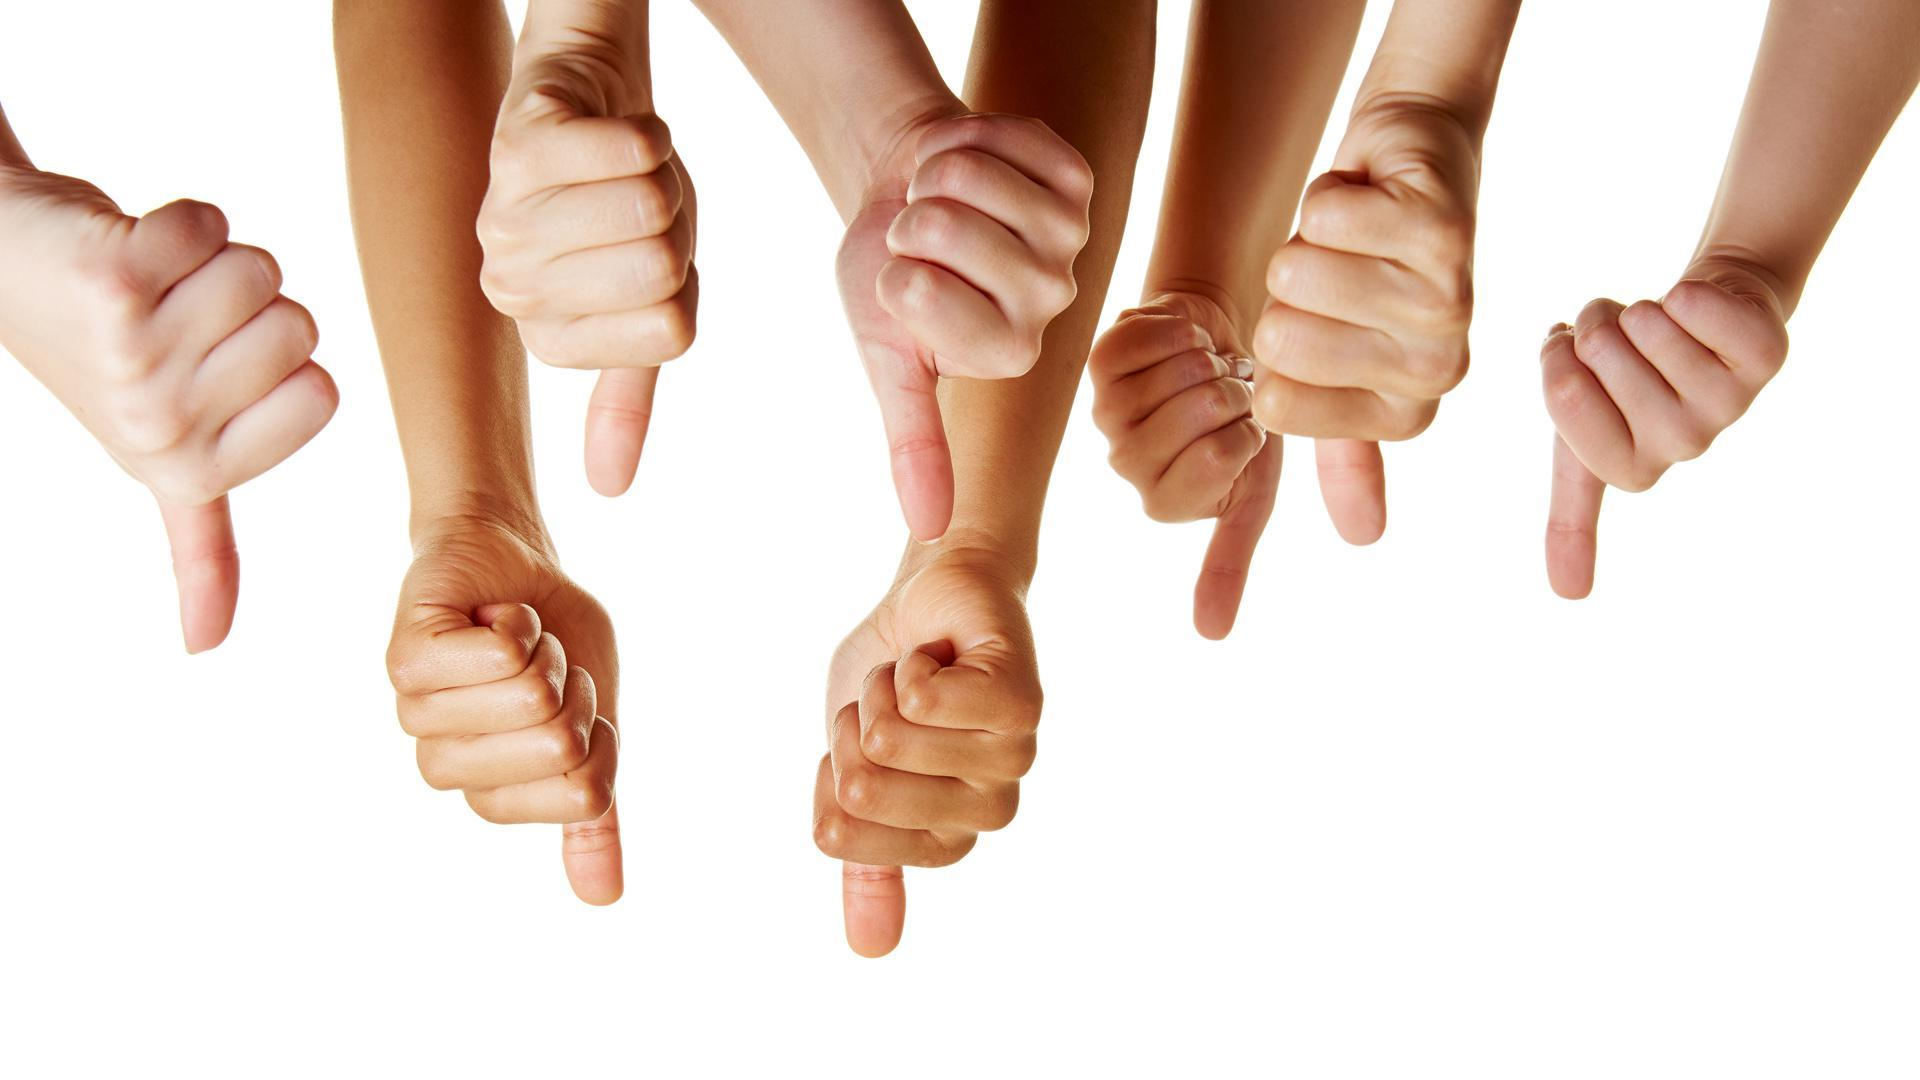thumbsdown: (92, 196, 342, 654), (874, 113, 1097, 549), (473, 115, 702, 498), (1542, 258, 1793, 603), (1251, 164, 1476, 547), (386, 599, 626, 909), (814, 640, 1044, 957), (1087, 313, 1271, 641)
